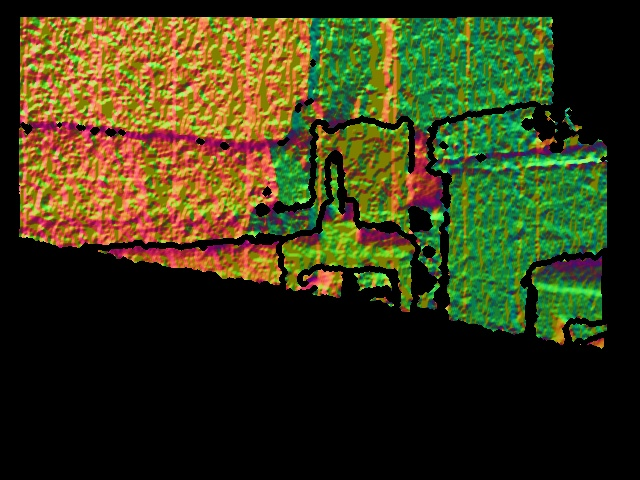station: (319, 155, 359, 235)
